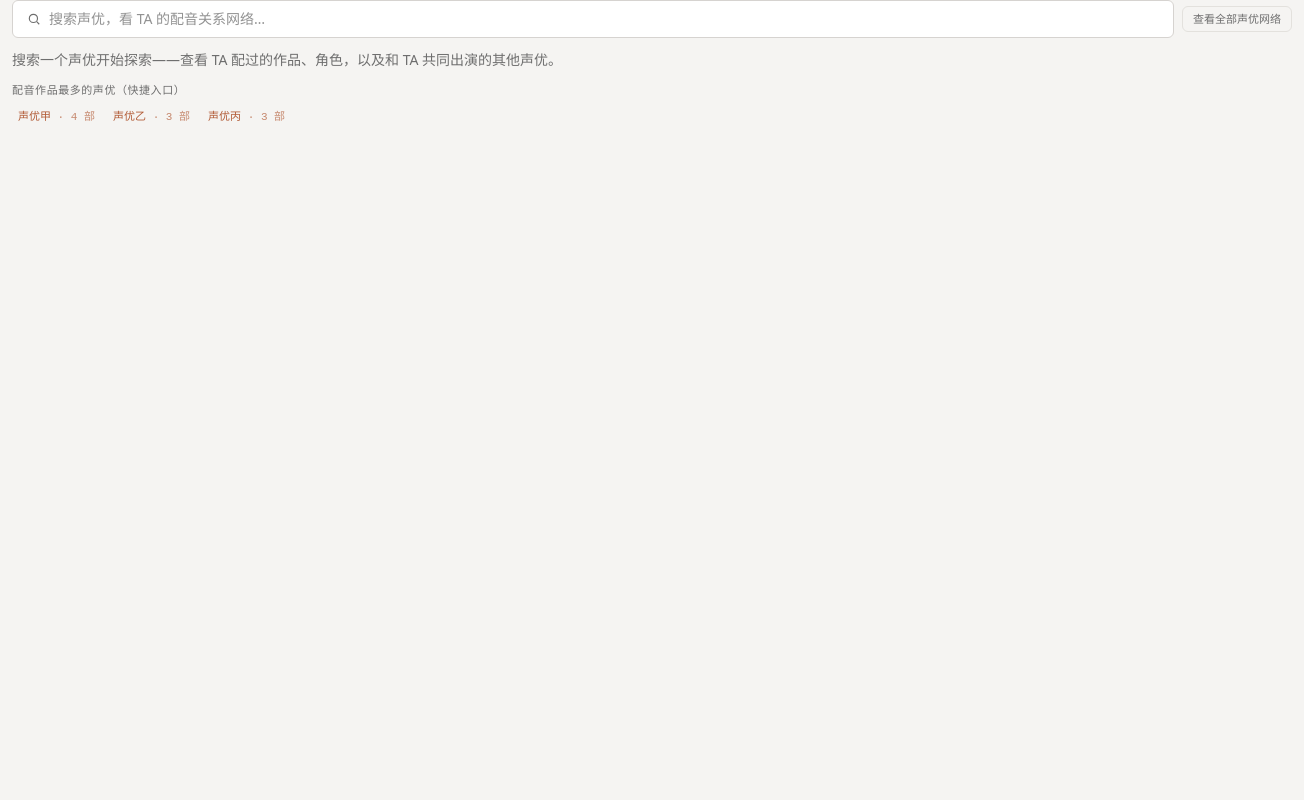
Test: 声优图谱（ADR 0036 邻域视图） › 概览模式入口：主动进入，提示数据量大并渲染全局图（节点更多）
Expected: the button "声优甲 · 4 部" is shown, [12, 106, 101, 127]
Click the button "查看全部声优网络" at (1237, 19), box [1182, 6, 1292, 32]
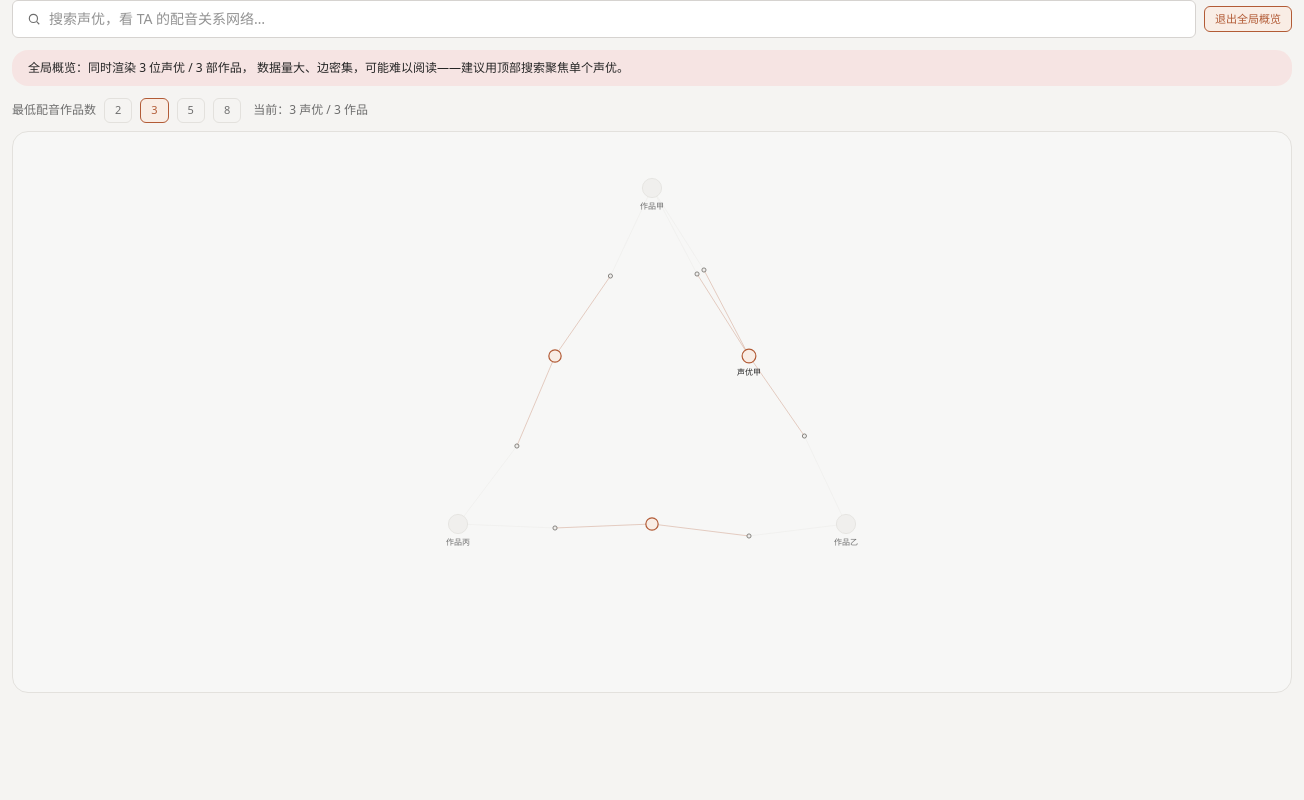
Expected: the text "全局概览：同时渲染 3 位声优 / 3 部作品， 数据量大、边密集，可能难以阅读——建议用顶部搜索聚焦单个声优。" is shown, [12, 50, 1292, 86]
Expected: the picture named "声优全局概览" is shown
